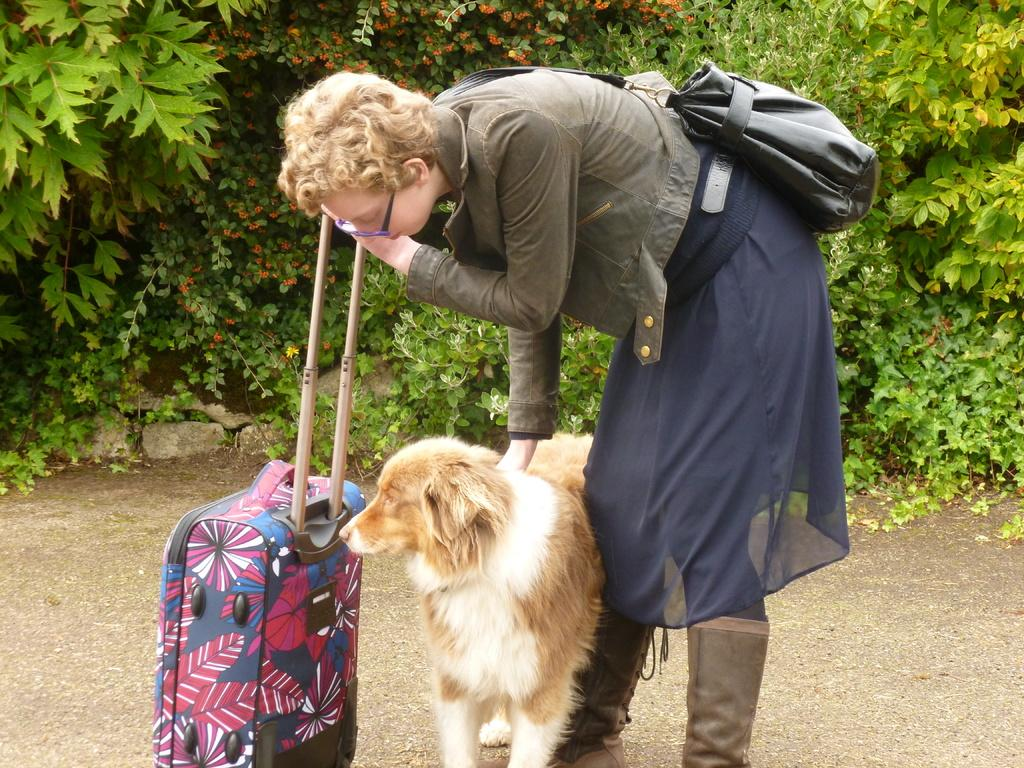Luggage-and-bags: (152, 209, 368, 767)
